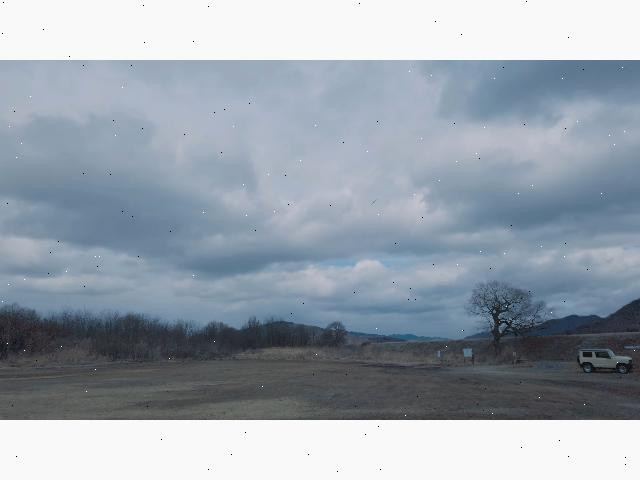Anti-Drone: (367, 196, 379, 206)
